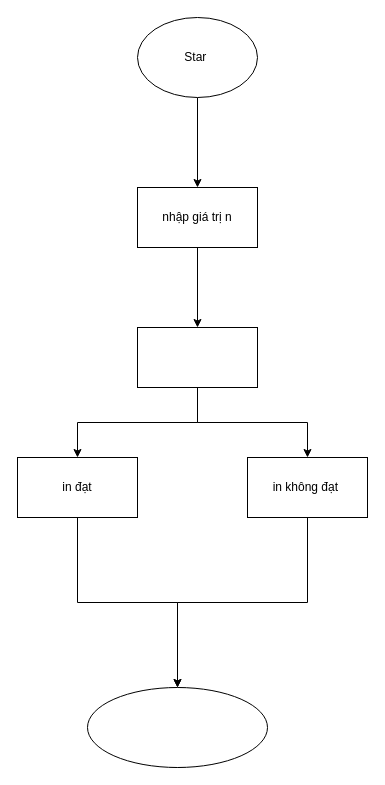
This 385x785 diagram has some shape labels left out. The shapes that lost their labels are listed below. From the top down, each one's centre as x and y in pixels, then its label:
At point 197,357: "kiểm tra giá trị >=5".
At point 177,727: "End".
